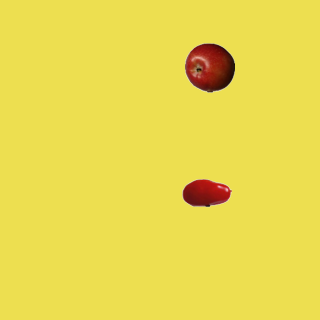Apple Braeburn: (184, 42, 234, 92)
Tomato 2: (181, 167, 231, 217)
